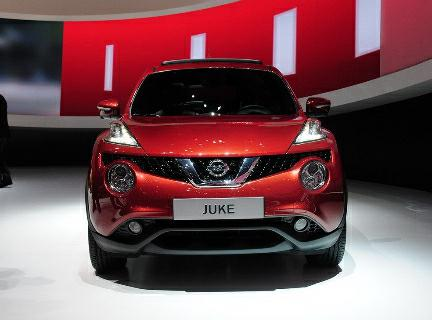日产-JUKE: (84, 56, 354, 284)
